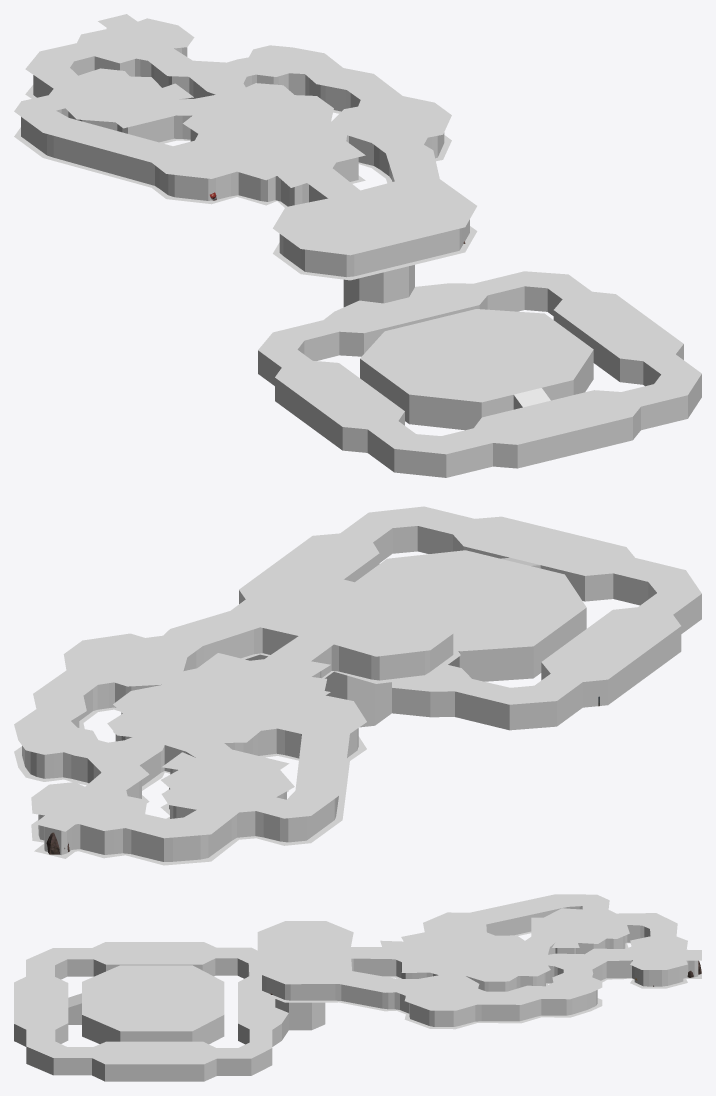
The model's file is Map_mesh.fbx.
3 renders of one model, top to bottom at view 1: azimuth 30°, elevation 25°; view 2: azimuth 150°, elevation 25°; view 3: azimuth 270°, elevation 25°, orthographic. The views are drawn at different scales.
Parts seen in each view (by area): view 1: Roof1, Roof2, Walls2, Walls1, MetalWalls1, Floor1, Tunnel; view 2: Roof1, Roof2, Walls2, Walls1, MetalWalls1, Floor1, Tunnel; view 3: Roof1, Roof2, Walls2, Walls1, MetalWalls1, Floor1, Tunnel.
Boxes of the visible parts, bbox=[...] form: Roof1: bbox=[14, 14, 476, 255]; Roof2: bbox=[258, 271, 701, 454]; Walls2: bbox=[258, 286, 701, 477]; Walls1: bbox=[50, 47, 444, 206]; MetalWalls1: bbox=[21, 56, 469, 277]; Floor1: bbox=[14, 85, 477, 280]; Tunnel: bbox=[343, 265, 414, 306]; Roof1: bbox=[14, 574, 460, 838]; Roof2: bbox=[239, 506, 701, 704]; Walls2: bbox=[239, 526, 701, 730]; Walls1: bbox=[22, 627, 358, 854]; MetalWalls1: bbox=[123, 628, 453, 861]; Floor1: bbox=[14, 642, 460, 865]; Tunnel: bbox=[324, 672, 391, 727]; Roof1: bbox=[257, 894, 701, 1010]; Roof2: bbox=[14, 942, 288, 1064]; Walls2: bbox=[14, 958, 288, 1081]; Walls1: bbox=[335, 922, 698, 1026]; MetalWalls1: bbox=[262, 906, 650, 1000]; Floor1: bbox=[257, 931, 701, 1029]; Tunnel: bbox=[275, 999, 325, 1030].
Size of the model in its own units: 2329 by 607 by 5547.
